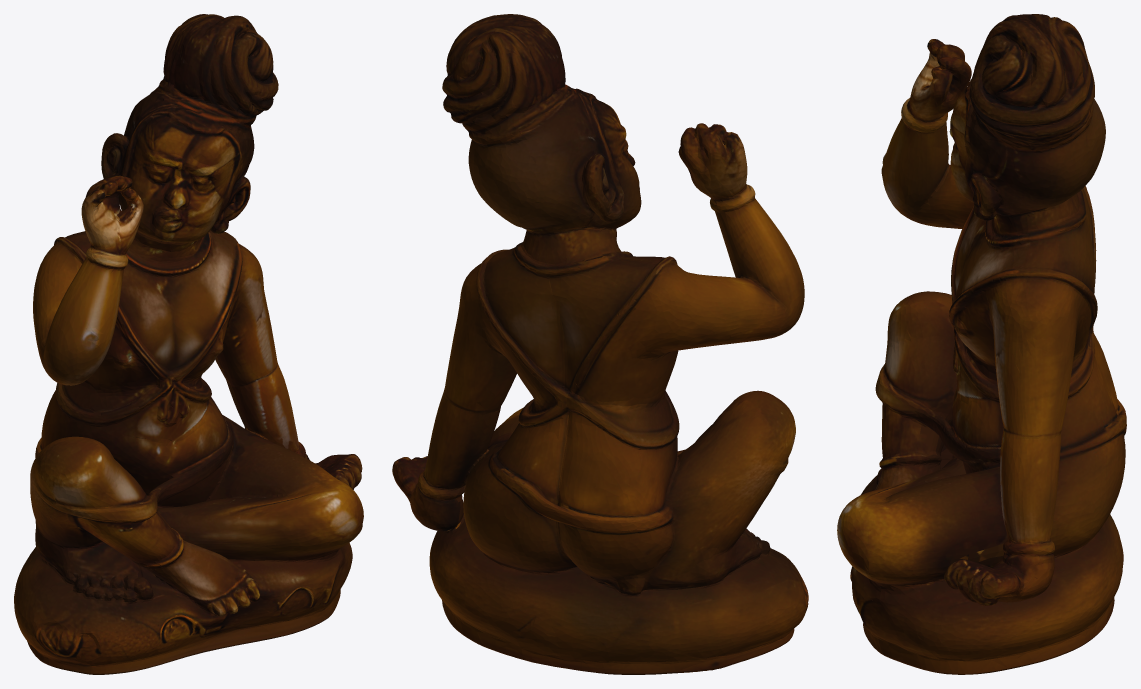
3 renders of one model, left to right at view 1: azimuth 30°, elevation 25°; view 2: azimuth 150°, elevation 25°; view 3: azimuth 270°, elevation 25°, orthographic. The views are drawn at different scales.
Parts seen in each view (by area): view 1: textured_mesh; view 2: textured_mesh; view 3: textured_mesh.
Boxes of the visible parts, x1,y1,x2,y2 form: textured_mesh: (14, 14, 363, 674); textured_mesh: (392, 14, 808, 674); textured_mesh: (837, 14, 1126, 674).
Bounding box in the file's own units: 1.33 × 1.99 × 0.8532.
Materials: 1 (1 with a texture image).
